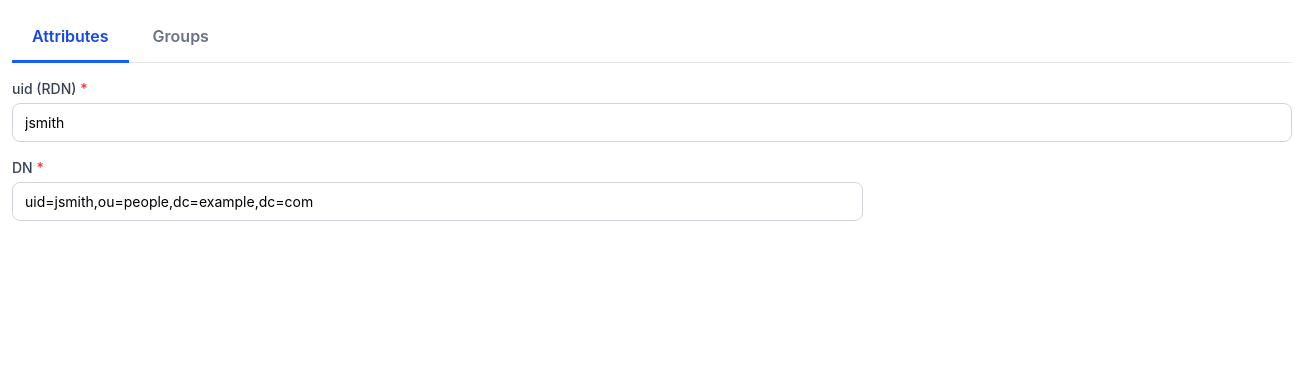
Test: UserForm DN-derived naming attributes › flags a conflict between an overridden DN naming value and the typed field
In the field labelled "DN *": (437, 202) [12,182,863,221], type "uid=different,ou=people,dc=example,dc=com"
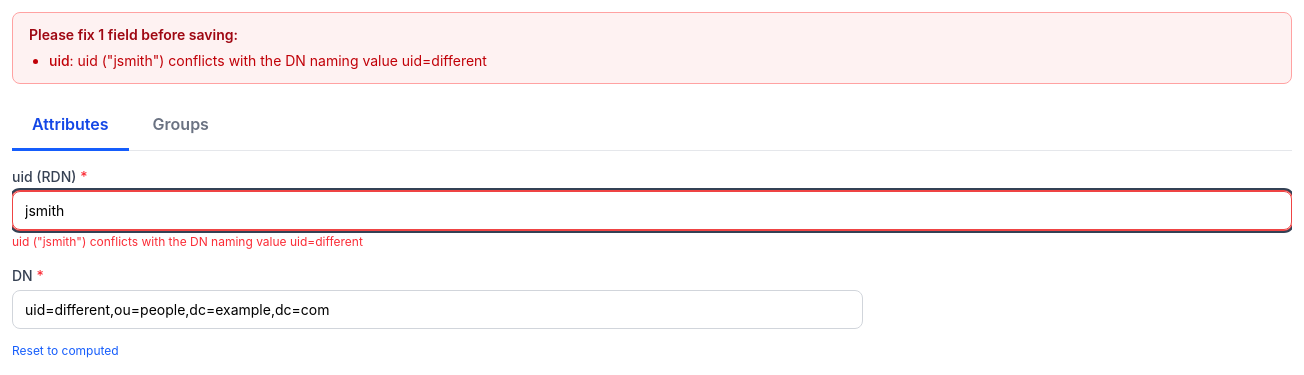
Expected: the text "conflicts with the DN naming value uid=different" is shown, [70,52,487,69]
